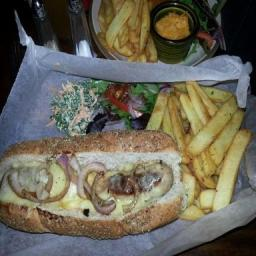hotdog: (112, 165, 178, 195)
